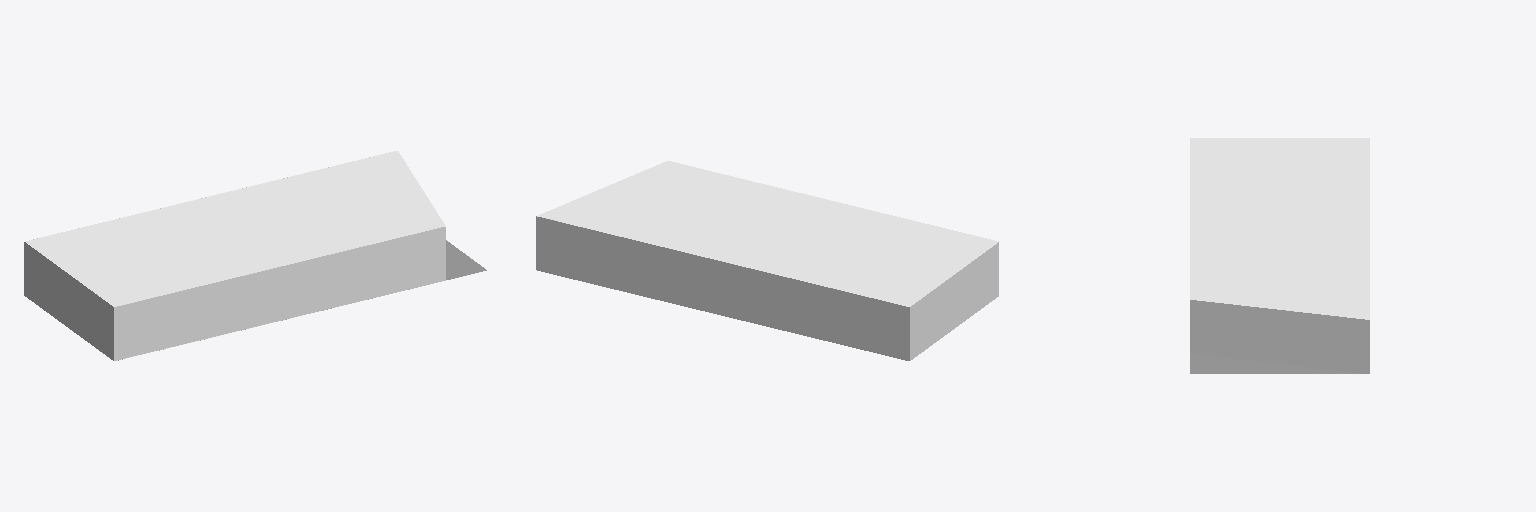
Rendered from justwalls.obj.
3 renders of one model, left to right at view 1: azimuth 30°, elevation 25°; view 2: azimuth 150°, elevation 25°; view 3: azimuth 270°, elevation 25°, orthographic.
Visible parts, largest first — view 1: room_5_27, wall_3_16, wall_4_22, ground_1; view 2: room_5_27, wall_1_4, wall_4_22; view 3: room_5_27, wall_2_10, ground_1.
Part boxes in pixels (x1,y1,x2,y2): room_5_27: (25,151,444,306); wall_3_16: (114,227,445,360); wall_4_22: (24,242,113,360); ground_1: (118,240,486,360); room_5_27: (538,161,998,306); wall_1_4: (536,216,909,360); wall_4_22: (910,242,998,360); room_5_27: (1190,138,1369,319); wall_2_10: (1190,300,1369,373); ground_1: (1190,354,1362,373).
Bounding box in the file's own units: 10986 × 1524 × 4580.